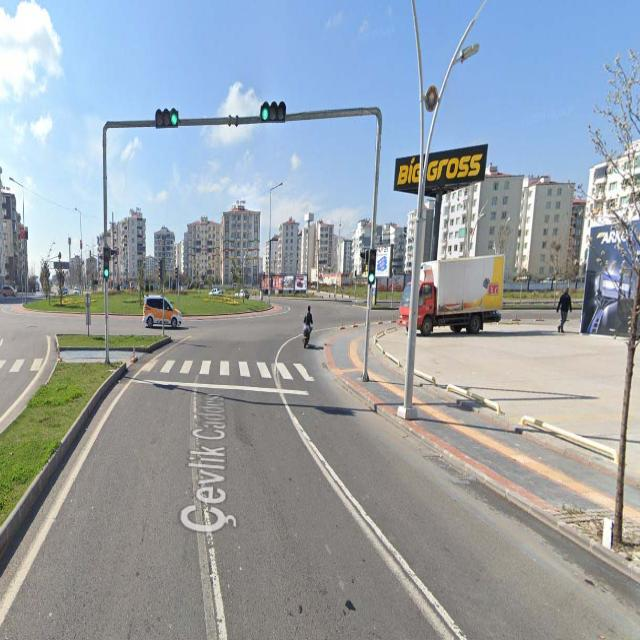yesil: (260, 104, 285, 121), (157, 111, 178, 126), (368, 251, 375, 282), (102, 248, 109, 277)
